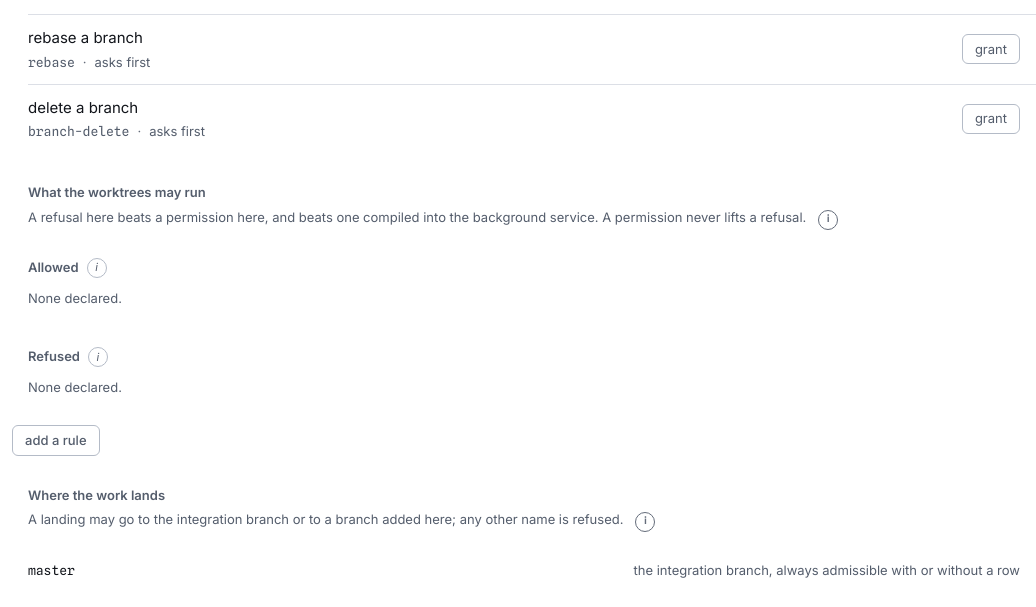
what the worktrees may run › writes the precedence rule on the page
(page scrolled)
Click the button "add a rule" at (56, 440), box [12,425,100,456]
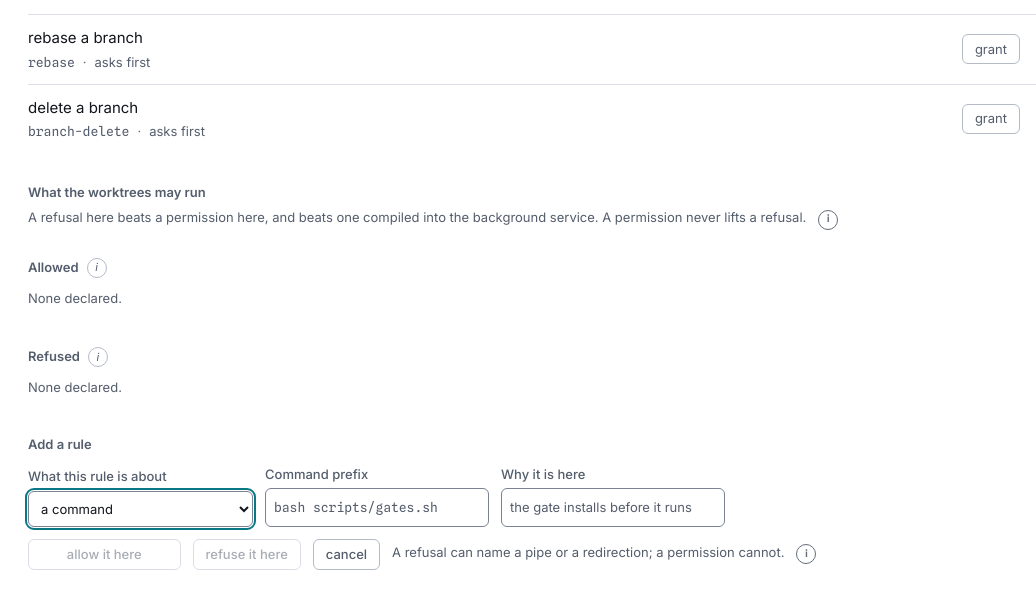
Expected: the element "What the worktrees may run" shows "A refusal here beats a permission here", [28,209,806,225]
Expected: the element "What the worktrees may run" shows "compiled into the background service", [28,209,806,225]
Click the 1st button "why?" at (828, 220), box [818,210,838,230]
(page scrolled)
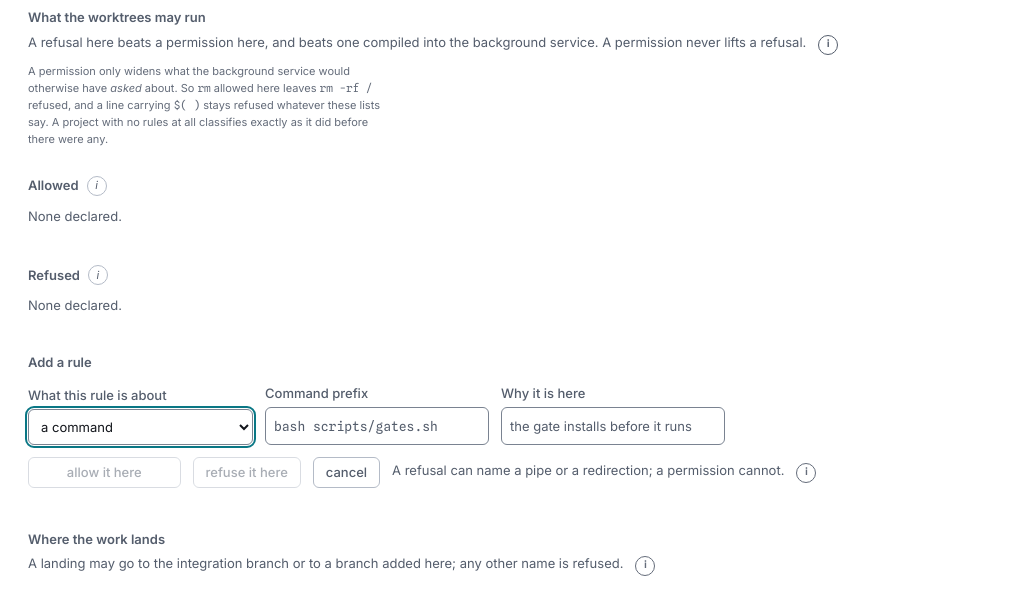
Result: the element "What the worktrees may run" shows "rm -rf /" at [320,81,372,95]
